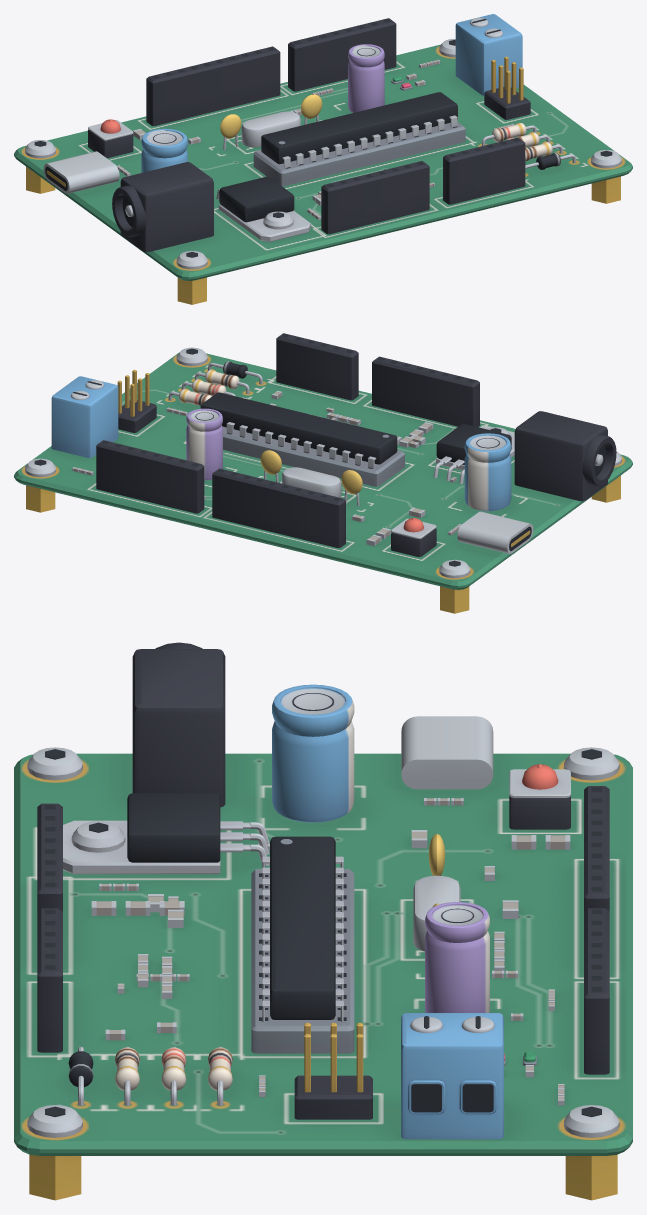
File: circuit-board.obj
The picture shows the model from 3 angles, top to bottom: view 1: azimuth 30°, elevation 25°; view 2: azimuth 150°, elevation 25°; view 3: azimuth 270°, elevation 25°; orthographic projection. The views are drawn at different scales.
Parts seen in each view (by area): view 1: circuit-board_body; view 2: circuit-board_body; view 3: circuit-board_body.
Part boxes in pixels (bbox=[...]): circuit-board_body: bbox=[14, 14, 632, 304]; circuit-board_body: bbox=[14, 333, 632, 613]; circuit-board_body: bbox=[14, 642, 632, 1200].
Size of the model in its own units: 0.0925 by 0.0181 by 0.06.
Materials: 3 (1 with a texture image).
